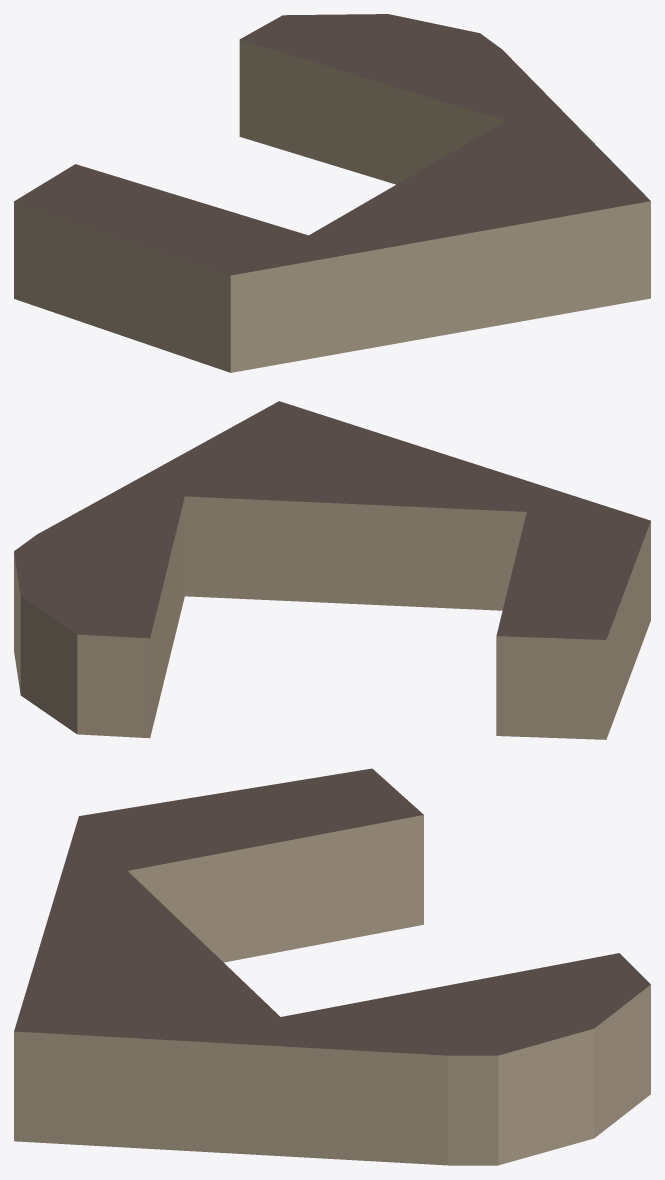
The picture shows the model from 3 angles, top to bottom: view 1: azimuth 30°, elevation 25°; view 2: azimuth 150°, elevation 25°; view 3: azimuth 270°, elevation 25°; orthographic projection. The views are drawn at different scales.
Visible parts, largest first — view 1: HP-w1515071115; view 2: HP-w1515071115; view 3: HP-w1515071115.
Part boxes in pixels (x1,y1,x2,y2): HP-w1515071115: [14, 14, 650, 372]; HP-w1515071115: [14, 401, 650, 739]; HP-w1515071115: [14, 768, 650, 1165].
Bounding box in the file's own units: 50.45 × 9 × 47.3.
